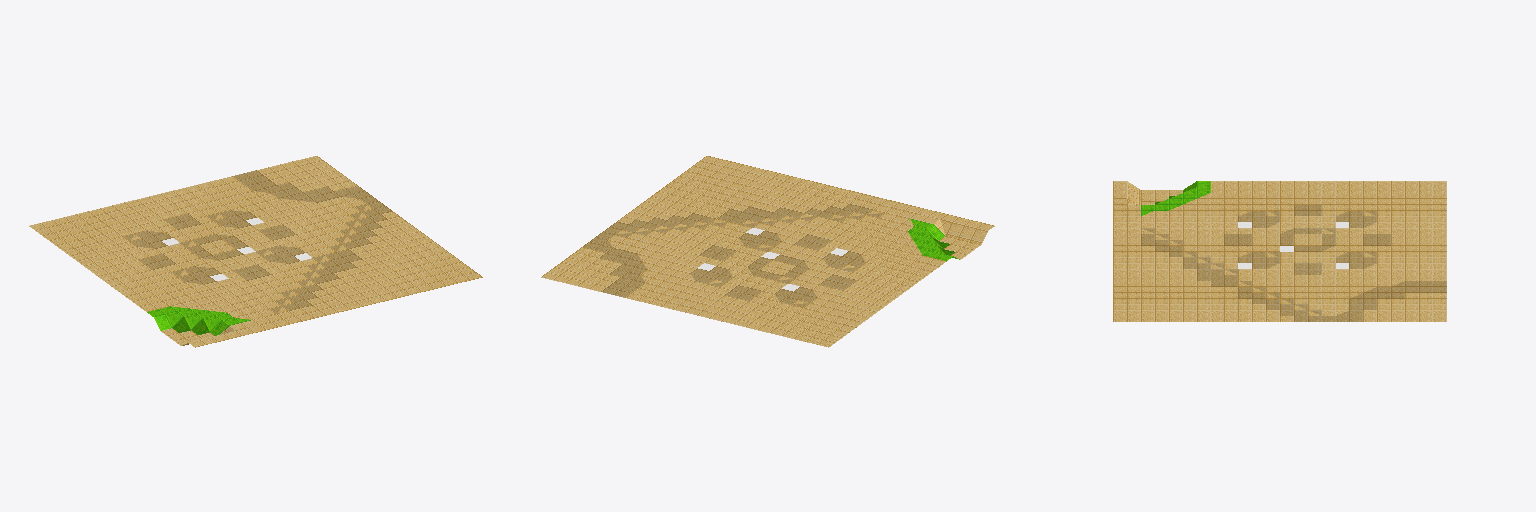
3 renders of one model, left to right at view 1: azimuth 30°, elevation 25°; view 2: azimuth 150°, elevation 25°; view 3: azimuth 270°, elevation 25°, orthographic.
Visible parts, largest first — view 1: FloorCorner_4; view 2: FloorCorner_4; view 3: FloorCorner_4.
Boxes of the visible parts, box(x1,y1,x2,y2) form: FloorCorner_4: box(29, 156, 482, 347); FloorCorner_4: box(541, 156, 994, 347); FloorCorner_4: box(1113, 181, 1446, 321).
Bounding box in the file's own units: 24 × 0.6972 × 24.
Materials: 11 (10 with a texture image).